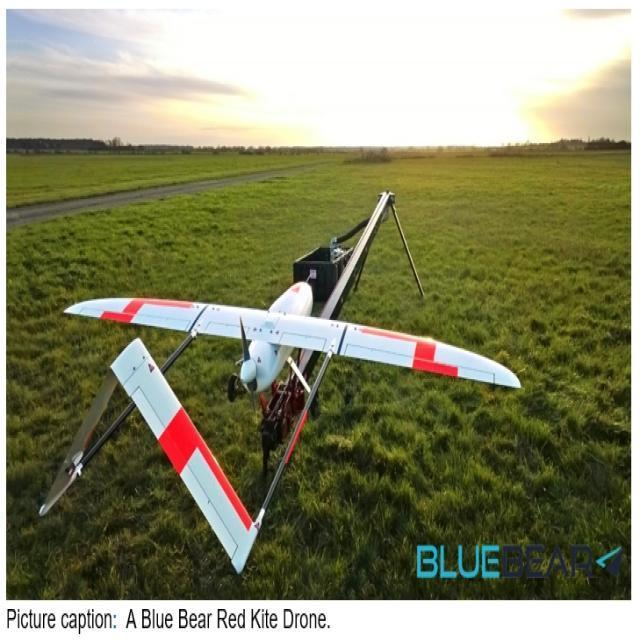iha: (40, 260, 528, 576)
